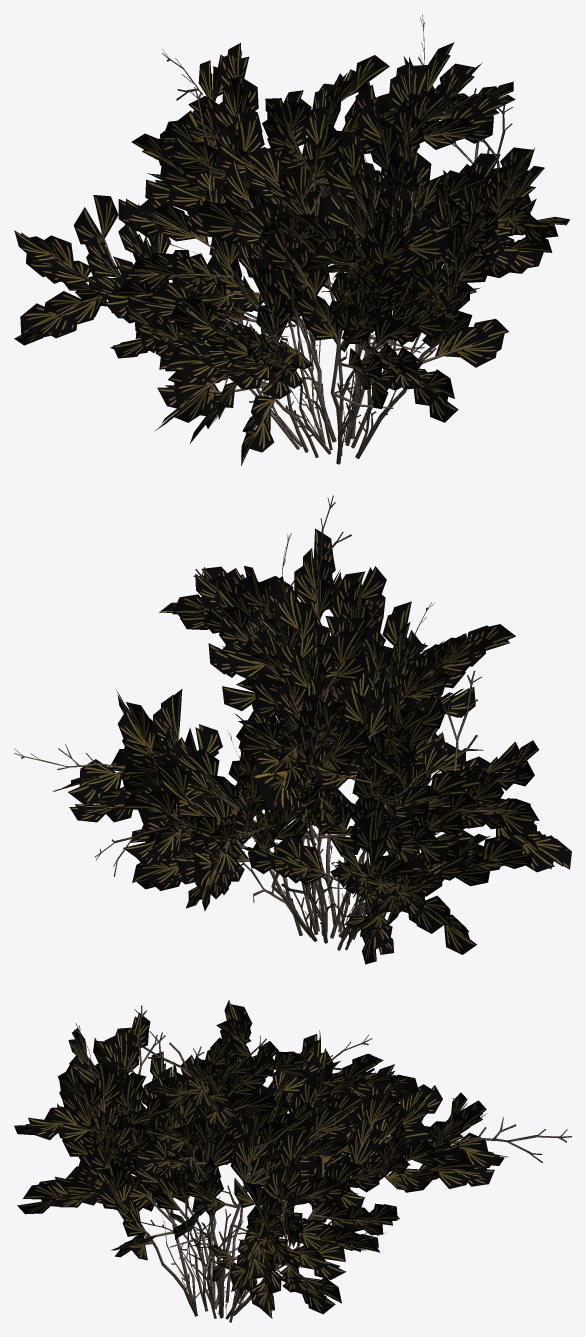
The model's file is SM_ScrubBush.glb.
3 views of the same model, one above another, from view 1: azimuth 30°, elevation 25°; view 2: azimuth 150°, elevation 25°; view 3: azimuth 270°, elevation 25° (orthographic). The views are drawn at different scales.
Visible parts, largest first — view 1: SM_ScrubBush; view 2: SM_ScrubBush; view 3: SM_ScrubBush.
Part boxes in pixels (box(x1,y1,x2,y2)): SM_ScrubBush: box(14, 14, 569, 465); SM_ScrubBush: box(14, 495, 571, 964); SM_ScrubBush: box(14, 1000, 571, 1322).
Size of the model in its own units: 1.1 by 0.85 by 1.33.
Materials: 3 (3 with a texture image).
